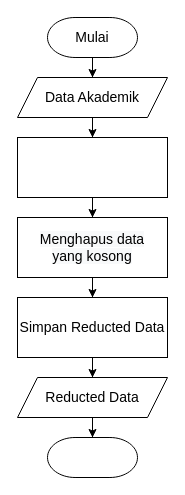
Some shapes in this 185 by 495 pixel diagram are drawn without their labels. The centre of each missing label's shape, as x and y in pixels:
Menghapus kolom yang tidak digunakan: [92,167]
Selesai: [92,457]
